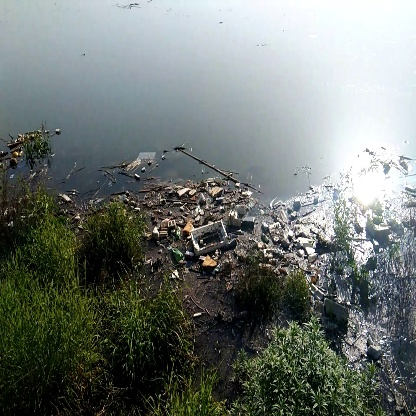branch: (179, 148, 252, 186)
